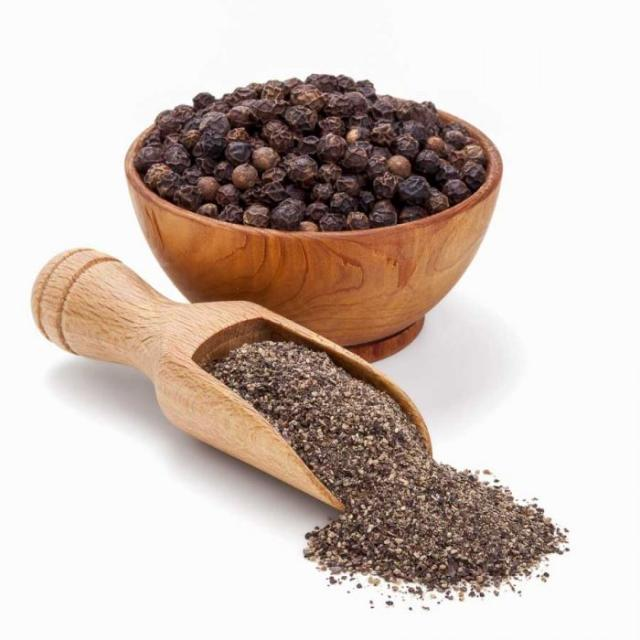Black pepper: (130, 64, 494, 247)
